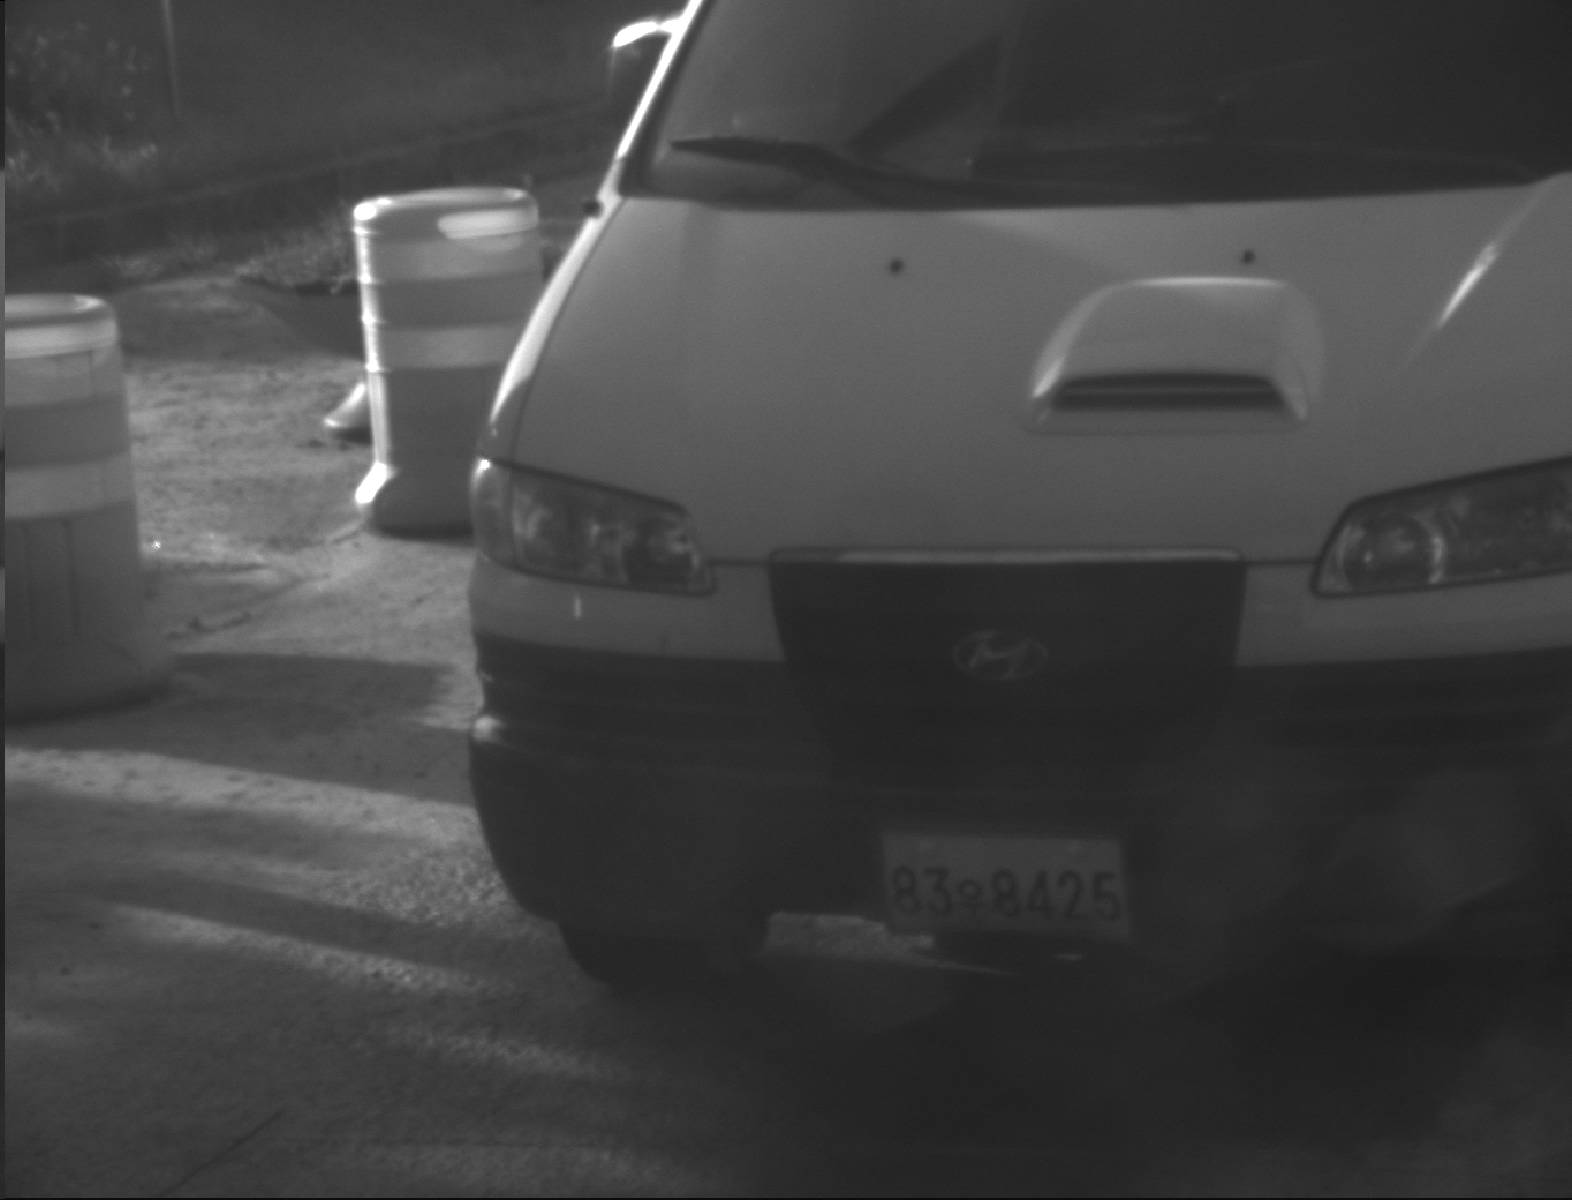car: (460, 1, 1550, 990)
plate: (873, 826, 1134, 944)
